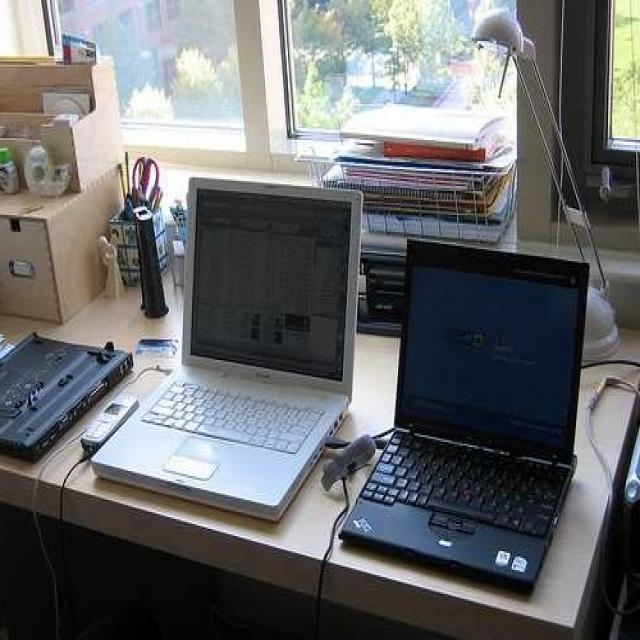laptop: (77, 163, 360, 518), (337, 228, 592, 602)
